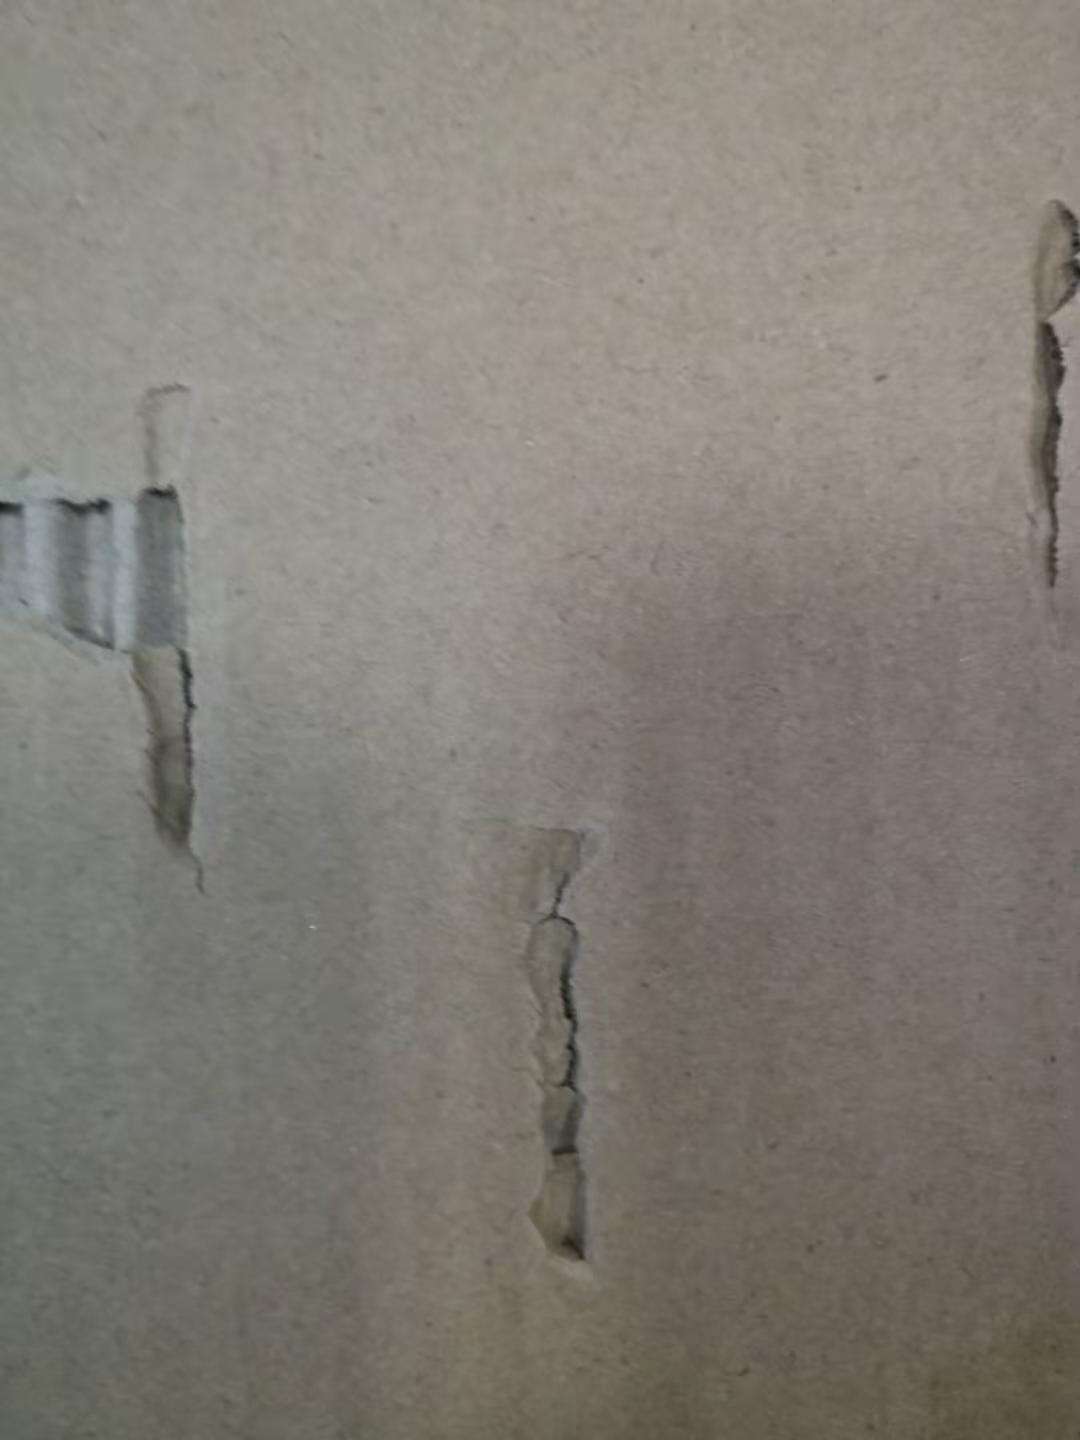defect: (1, 334, 279, 930), (448, 779, 691, 1322), (985, 153, 1080, 642)
